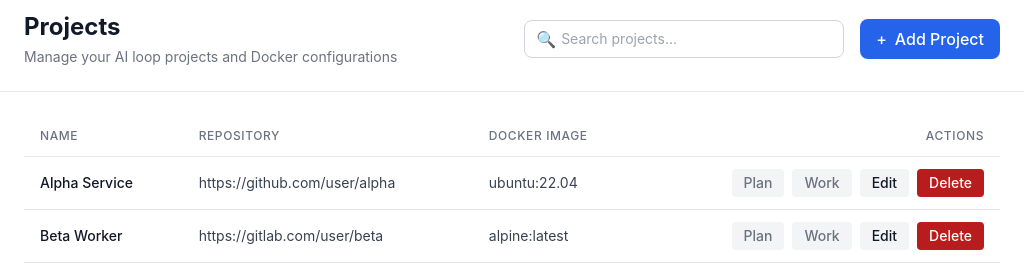
Test case: ProjectsTab › Search › filters projects by name
Type "alpha" into the search field labelled "Search projects" at (684,39), box left=524, top=20, right=844, bottom=58
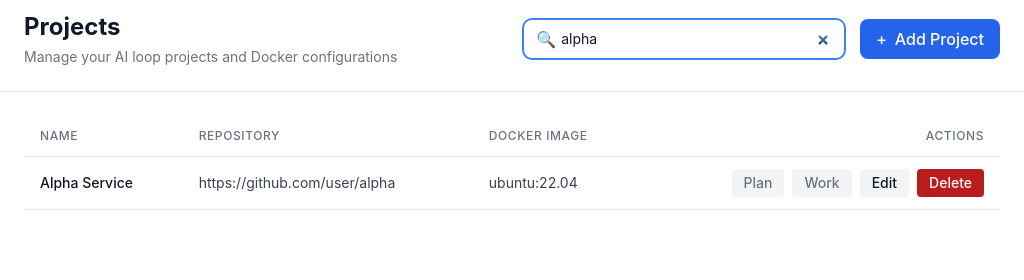
Check: the text "Alpha Service" is shown, box left=24, top=156, right=183, bottom=210
Check: the text "Beta Worker" is gone
